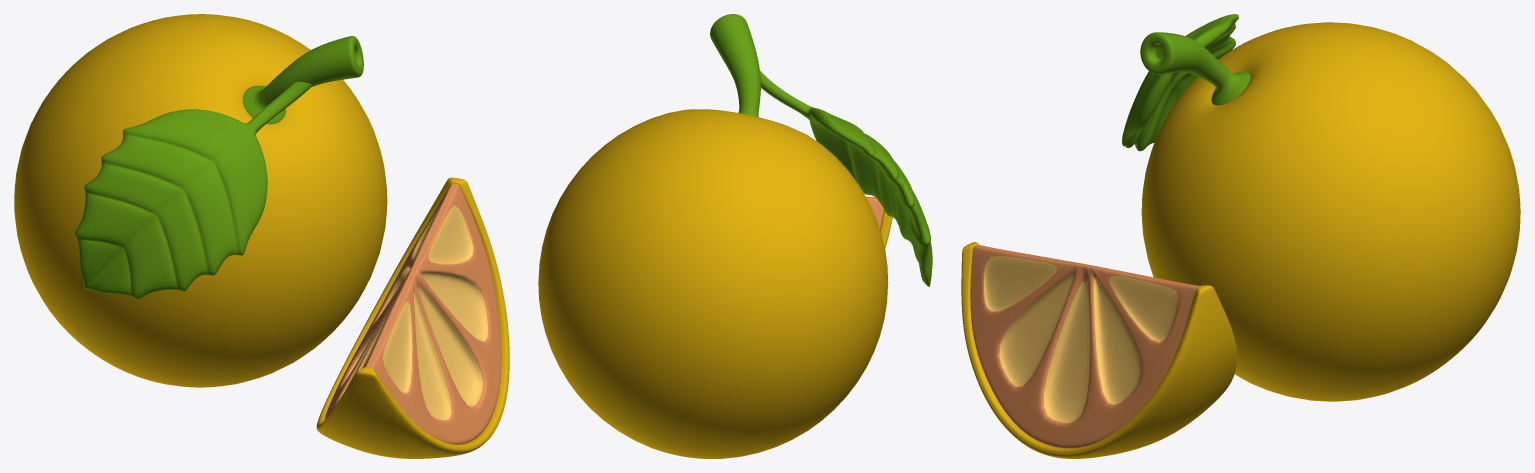
Rendered from Orange.fbx.
The picture shows the model from 3 angles, left to right: view 1: azimuth 30°, elevation 25°; view 2: azimuth 150°, elevation 25°; view 3: azimuth 270°, elevation 25°; orthographic projection. The views are drawn at different scales.
Parts seen in each view (by area): view 1: Sphere, Plane_033, Circle_001, Circle_002, Cylinder; view 2: Sphere, Plane_033, Cylinder; view 3: Sphere, Circle_001, Circle_002, Plane_033, Cylinder.
Boxes of the visible parts, x1=… form: Sphere: x1=14, y1=14, x2=387, y2=387; Plane_033: x1=75, y1=81, x2=312, y2=299; Circle_001: x1=325, y1=183, x2=501, y2=444; Circle_002: x1=316, y1=177, x2=509, y2=458; Cylinder: x1=242, y1=36, x2=363, y2=124; Sphere: x1=538, y1=109, x2=888, y2=458; Plane_033: x1=760, y1=71, x2=932, y2=286; Cylinder: x1=710, y1=14, x2=760, y2=117; Sphere: x1=1141, y1=22, x2=1520, y2=401; Circle_001: x1=970, y1=244, x2=1199, y2=448; Circle_002: x1=961, y1=242, x2=1236, y2=458; Plane_033: x1=1122, y1=14, x2=1238, y2=151; Cylinder: x1=1140, y1=32, x2=1250, y2=105.
Size of the model in its own units: 139 by 131 by 169.
